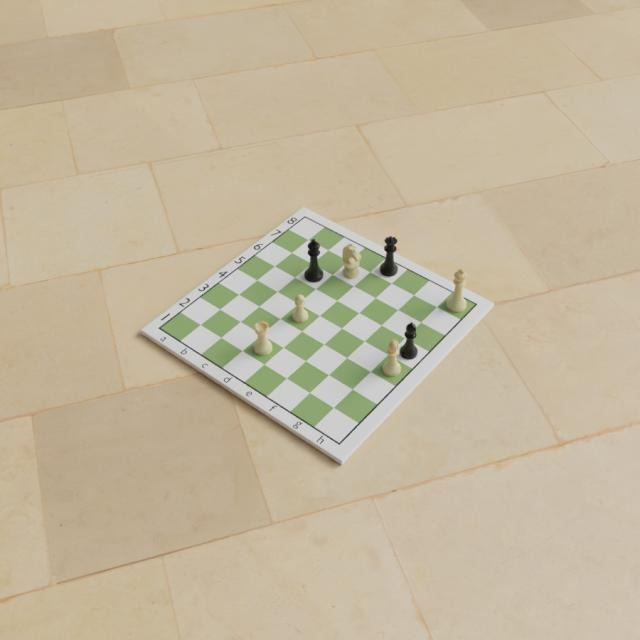black-bishop: (399, 320, 417, 361)
black-king: (304, 238, 324, 282)
black-queen: (379, 234, 399, 278)
white-bishop: (382, 338, 402, 378)
white-king: (445, 267, 467, 314)
white-knight: (342, 241, 362, 280)
white-pawn: (290, 292, 309, 323)
white-rook: (253, 319, 272, 356)
